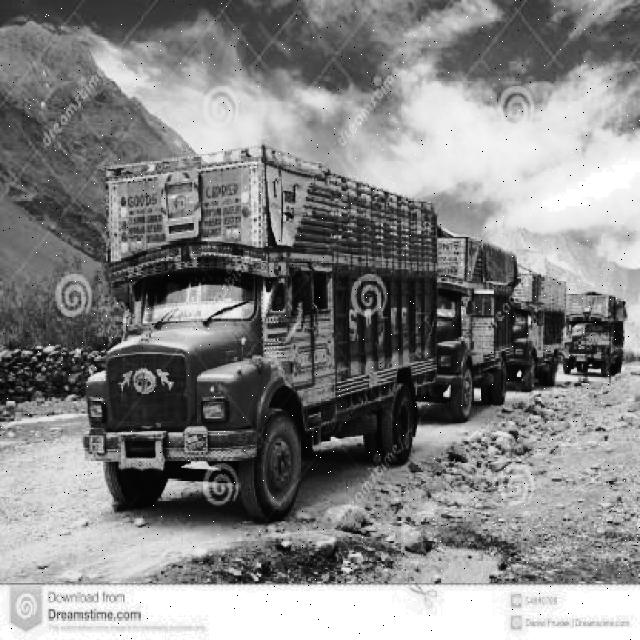HCV: (111, 143, 437, 508), (408, 258, 517, 412), (514, 277, 569, 412), (569, 290, 622, 384)
